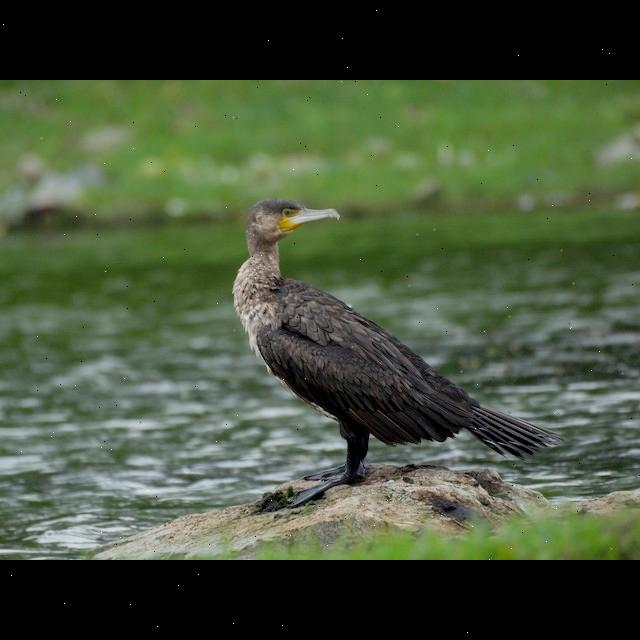cormorant: (228, 192, 566, 498)
